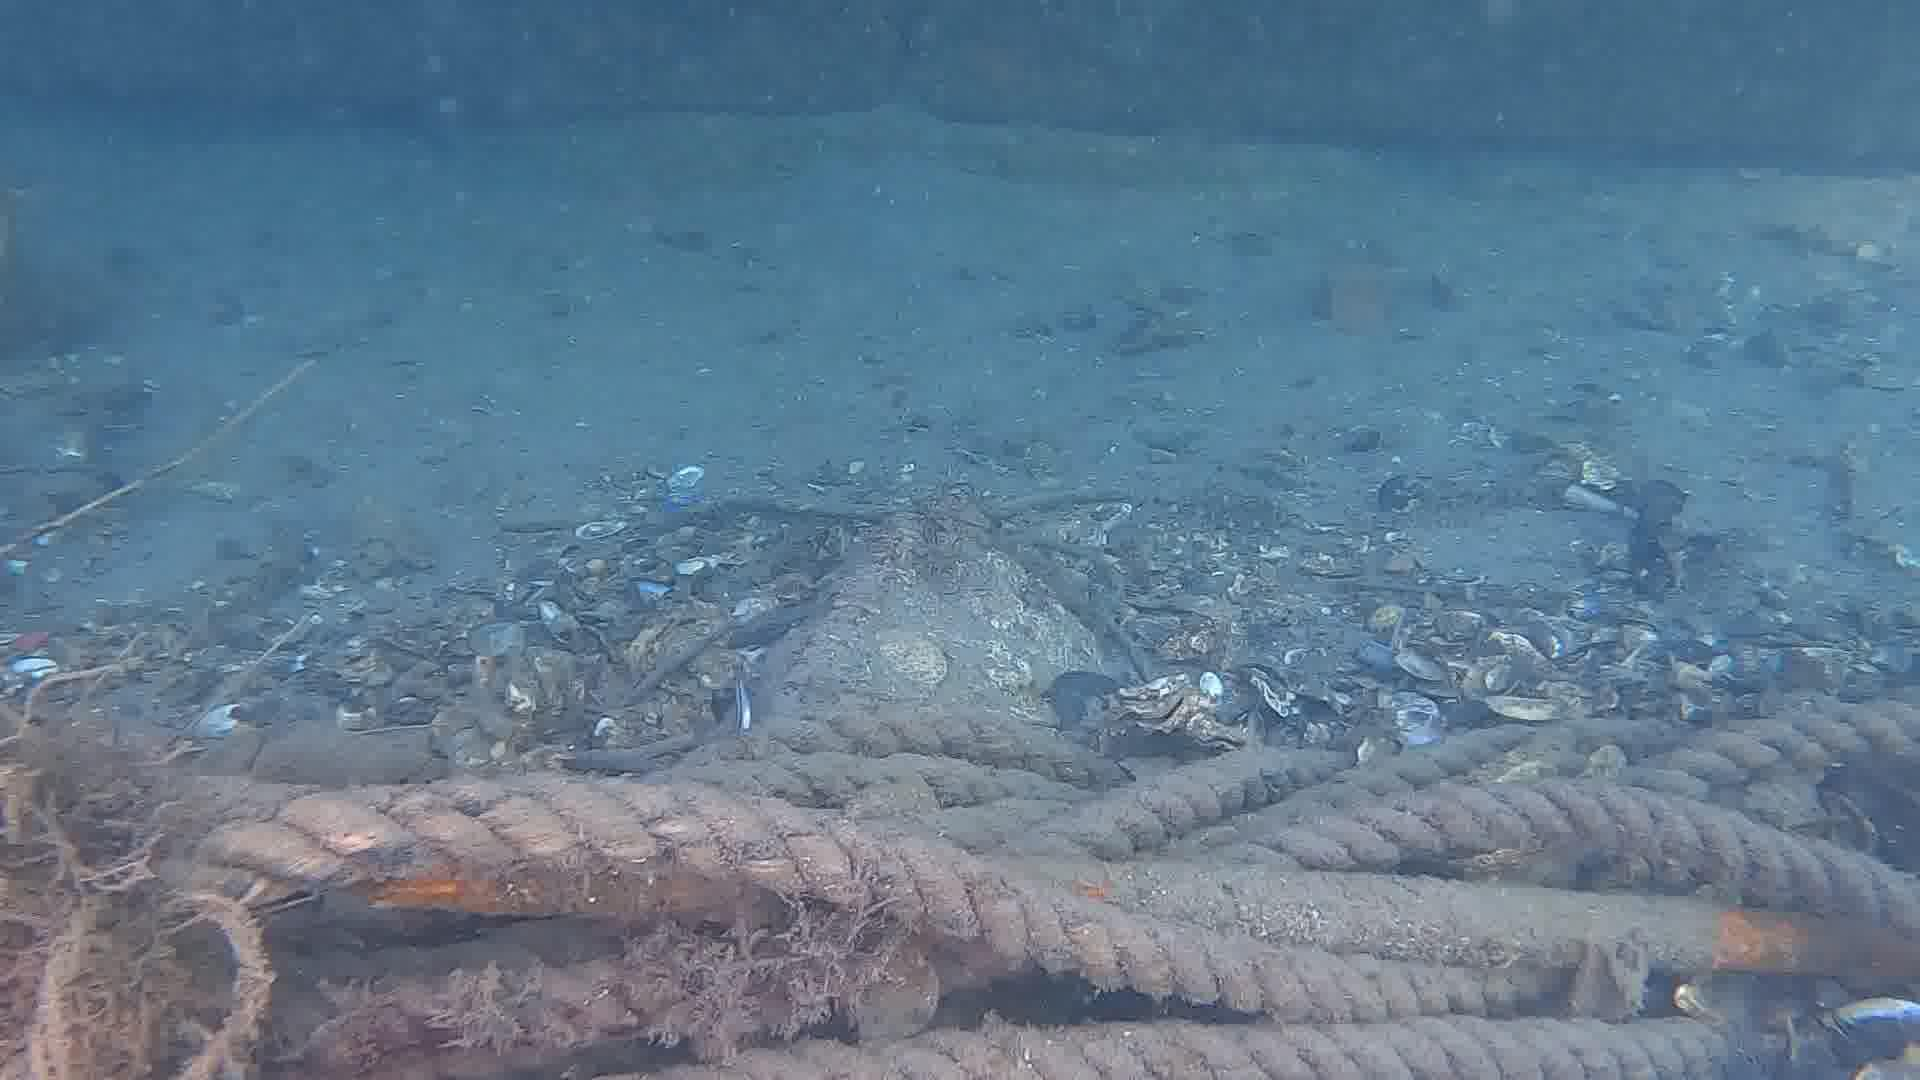bundle of ropes: (0, 702, 1920, 1077)
